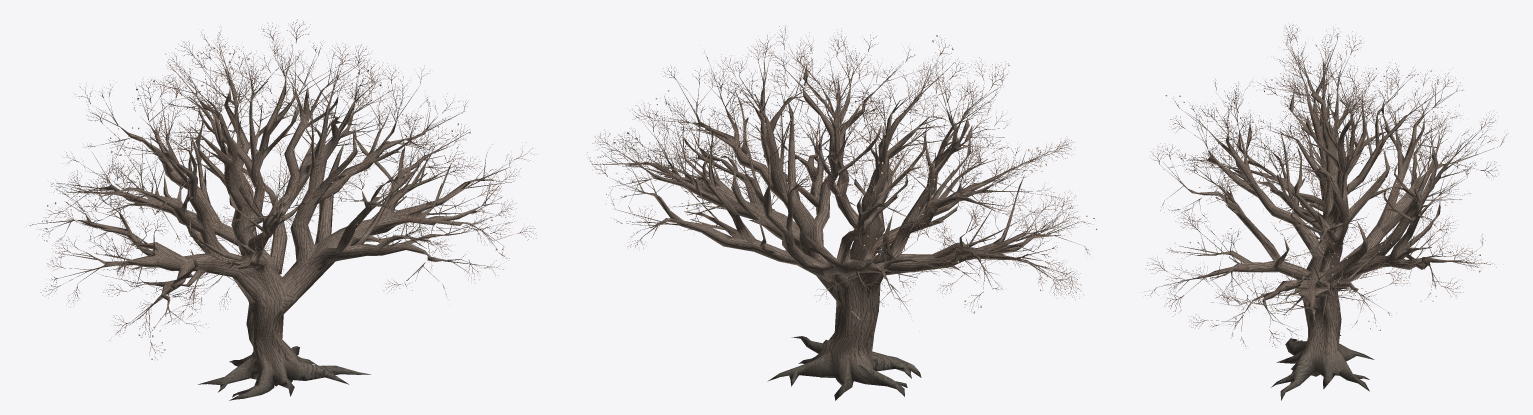
File: Triadica_Winter_LOD1.glb
The picture shows the model from 3 angles, left to right: view 1: azimuth 30°, elevation 25°; view 2: azimuth 150°, elevation 25°; view 3: azimuth 270°, elevation 25°; orthographic projection. The views are drawn at different scales.
Parts seen in each view (by area): view 1: Triadica_Wood_LOD1, Triadica_Winter_Shoots_LOD1; view 2: Triadica_Wood_LOD1, Triadica_Winter_Shoots_LOD1; view 3: Triadica_Wood_LOD1, Triadica_Winter_Shoots_LOD1.
Part boxes in pixels (x1=…): Triadica_Wood_LOD1: x1=35, y1=39, x2=513, y2=400; Triadica_Winter_Shoots_LOD1: x1=30, y1=19, x2=537, y2=359; Triadica_Wood_LOD1: x1=592, y1=47, x2=1080, y2=400; Triadica_Winter_Shoots_LOD1: x1=587, y1=26, x2=1096, y2=331; Triadica_Wood_LOD1: x1=1156, y1=40, x2=1499, y2=400; Triadica_Winter_Shoots_LOD1: x1=1144, y1=24, x2=1508, y2=348.
Bounding box in the file's own units: 17.42 × 11.91 × 12.94.
Materials: 2 (2 with a texture image).
